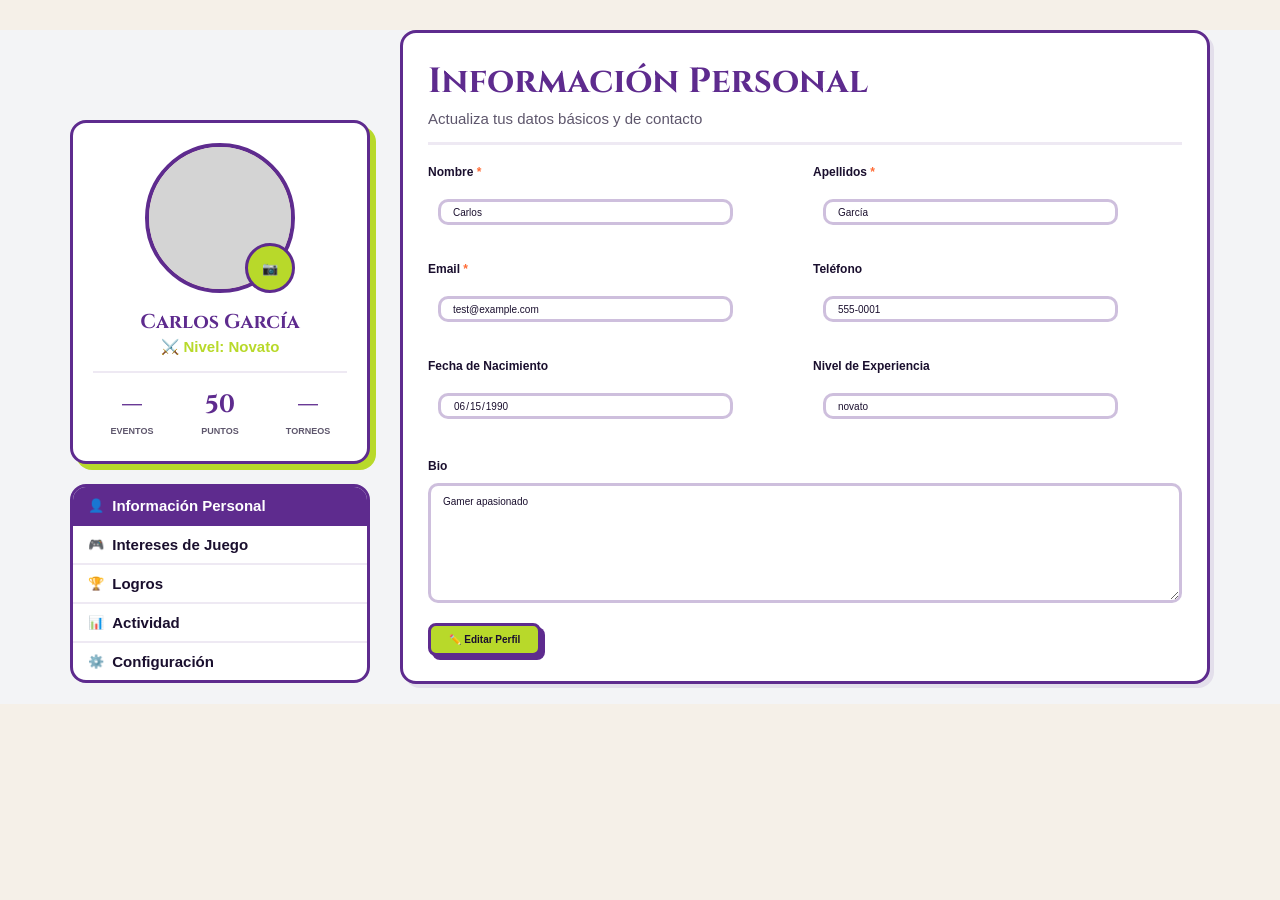
it: PerfilPage › cancels edit mode when cancel button is clicked
Expected: the heading "Carlos García" is shown, [140,308,300,335]
Click the button "✏️ Editar Perfil": {"x": 485, "y": 640} [428,623,541,656]
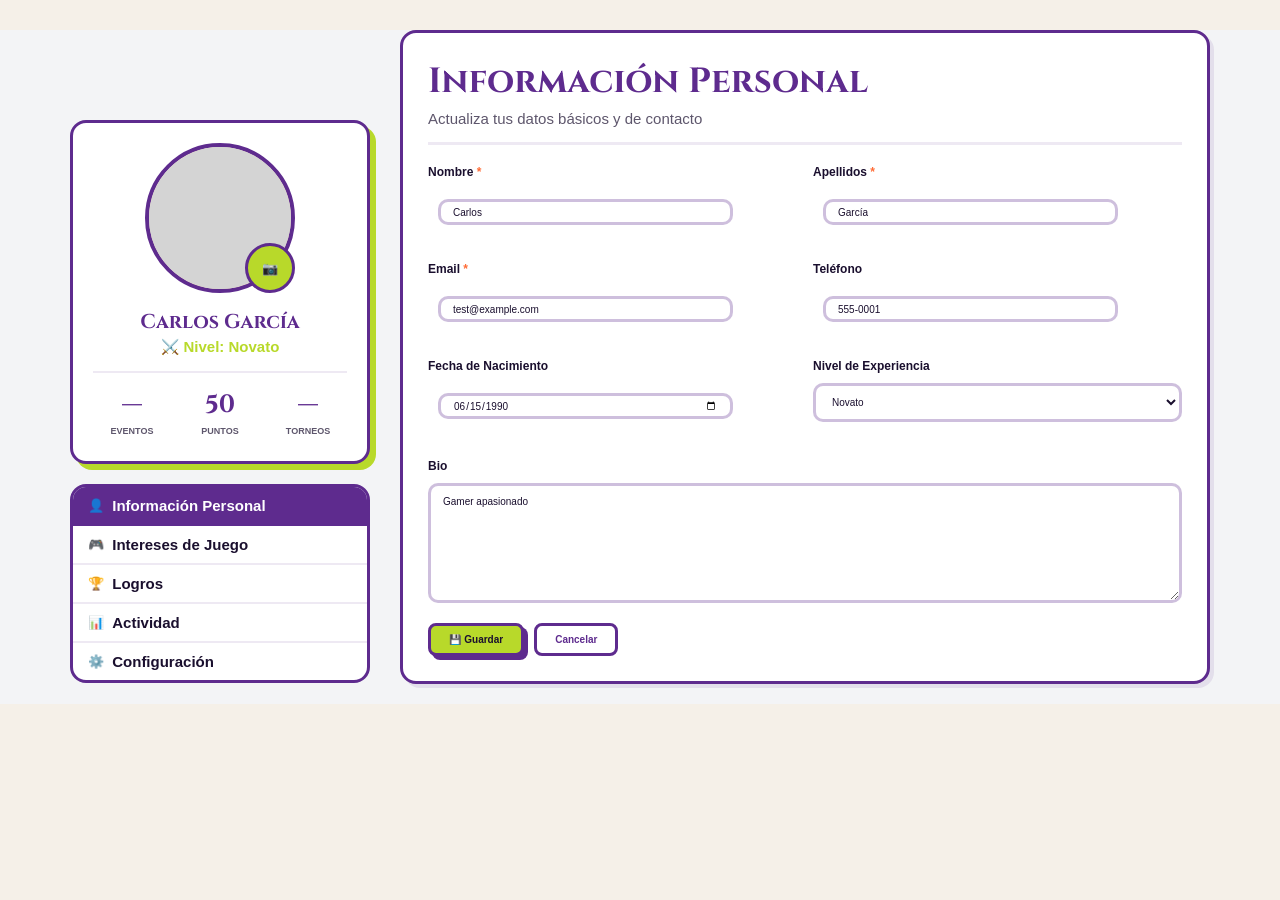
Click the button "Cancelar": {"x": 576, "y": 640} [534,623,618,656]
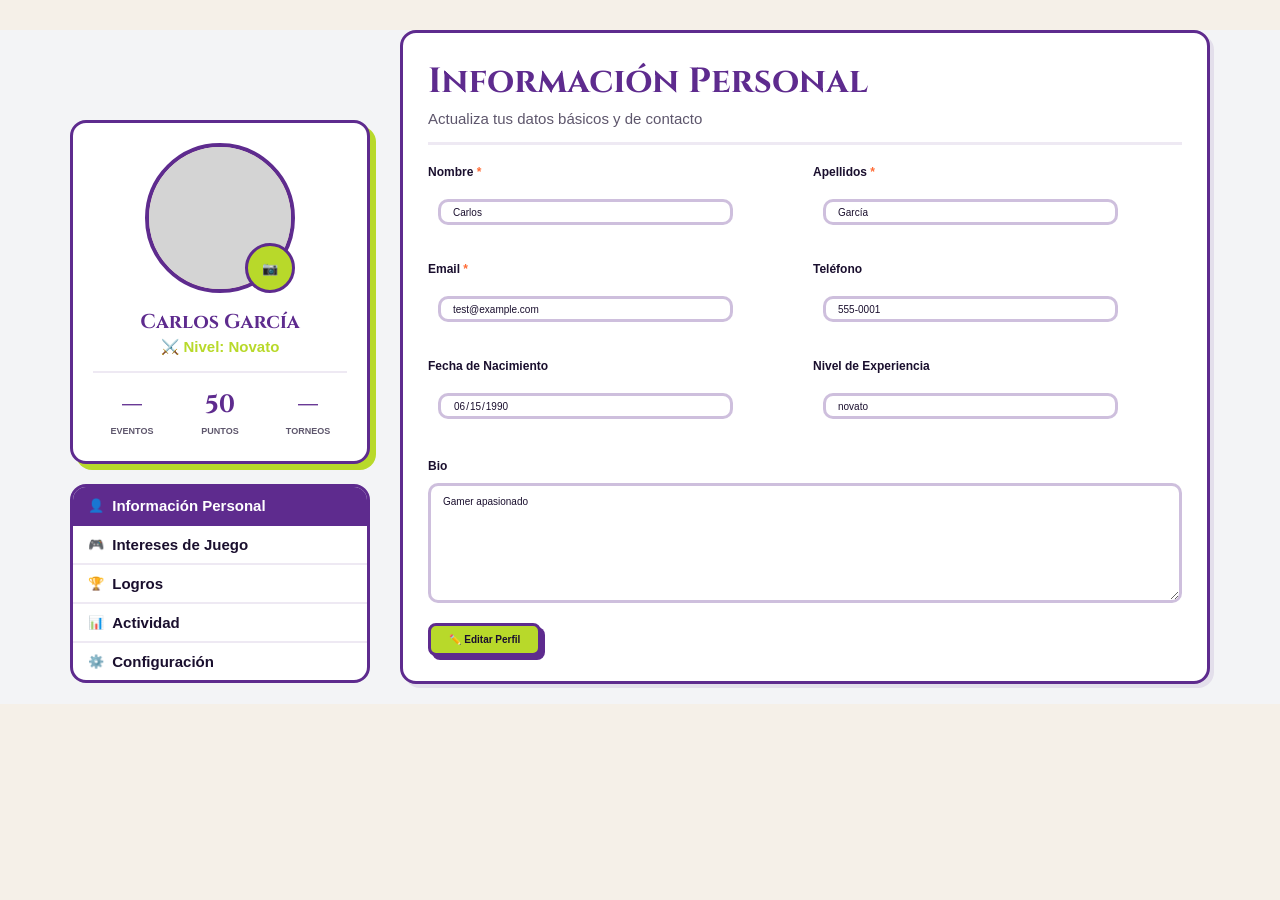
Result: the button "Guardar" is gone
